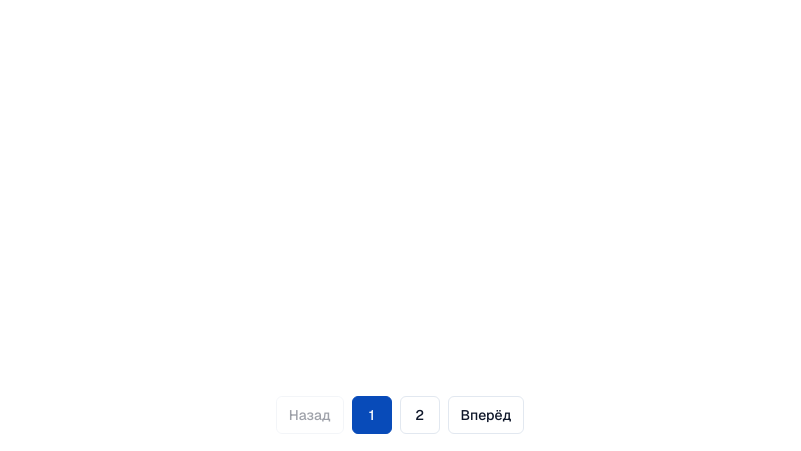
it: ClientMixedCategoryPagination: пагинация › клик по «Вперёд» запрашивает noSubcategory=1 и page=2, обновляет URL и грид
The image size is (801, 451).
Click the link "Вперёд": (486, 414) [448,396,524,434]
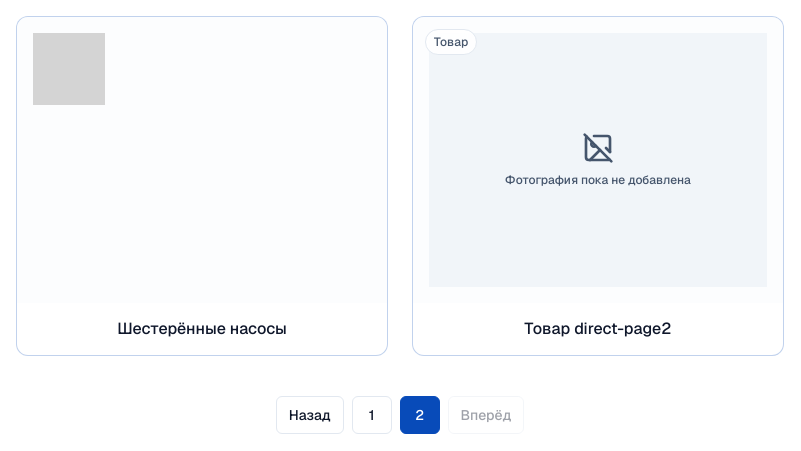
expect the text "Товар direct-page2" is shown: met, box [525,318,671,338]
expect the text "Шестерённые насосы" is shown: met, box [117,318,287,338]
